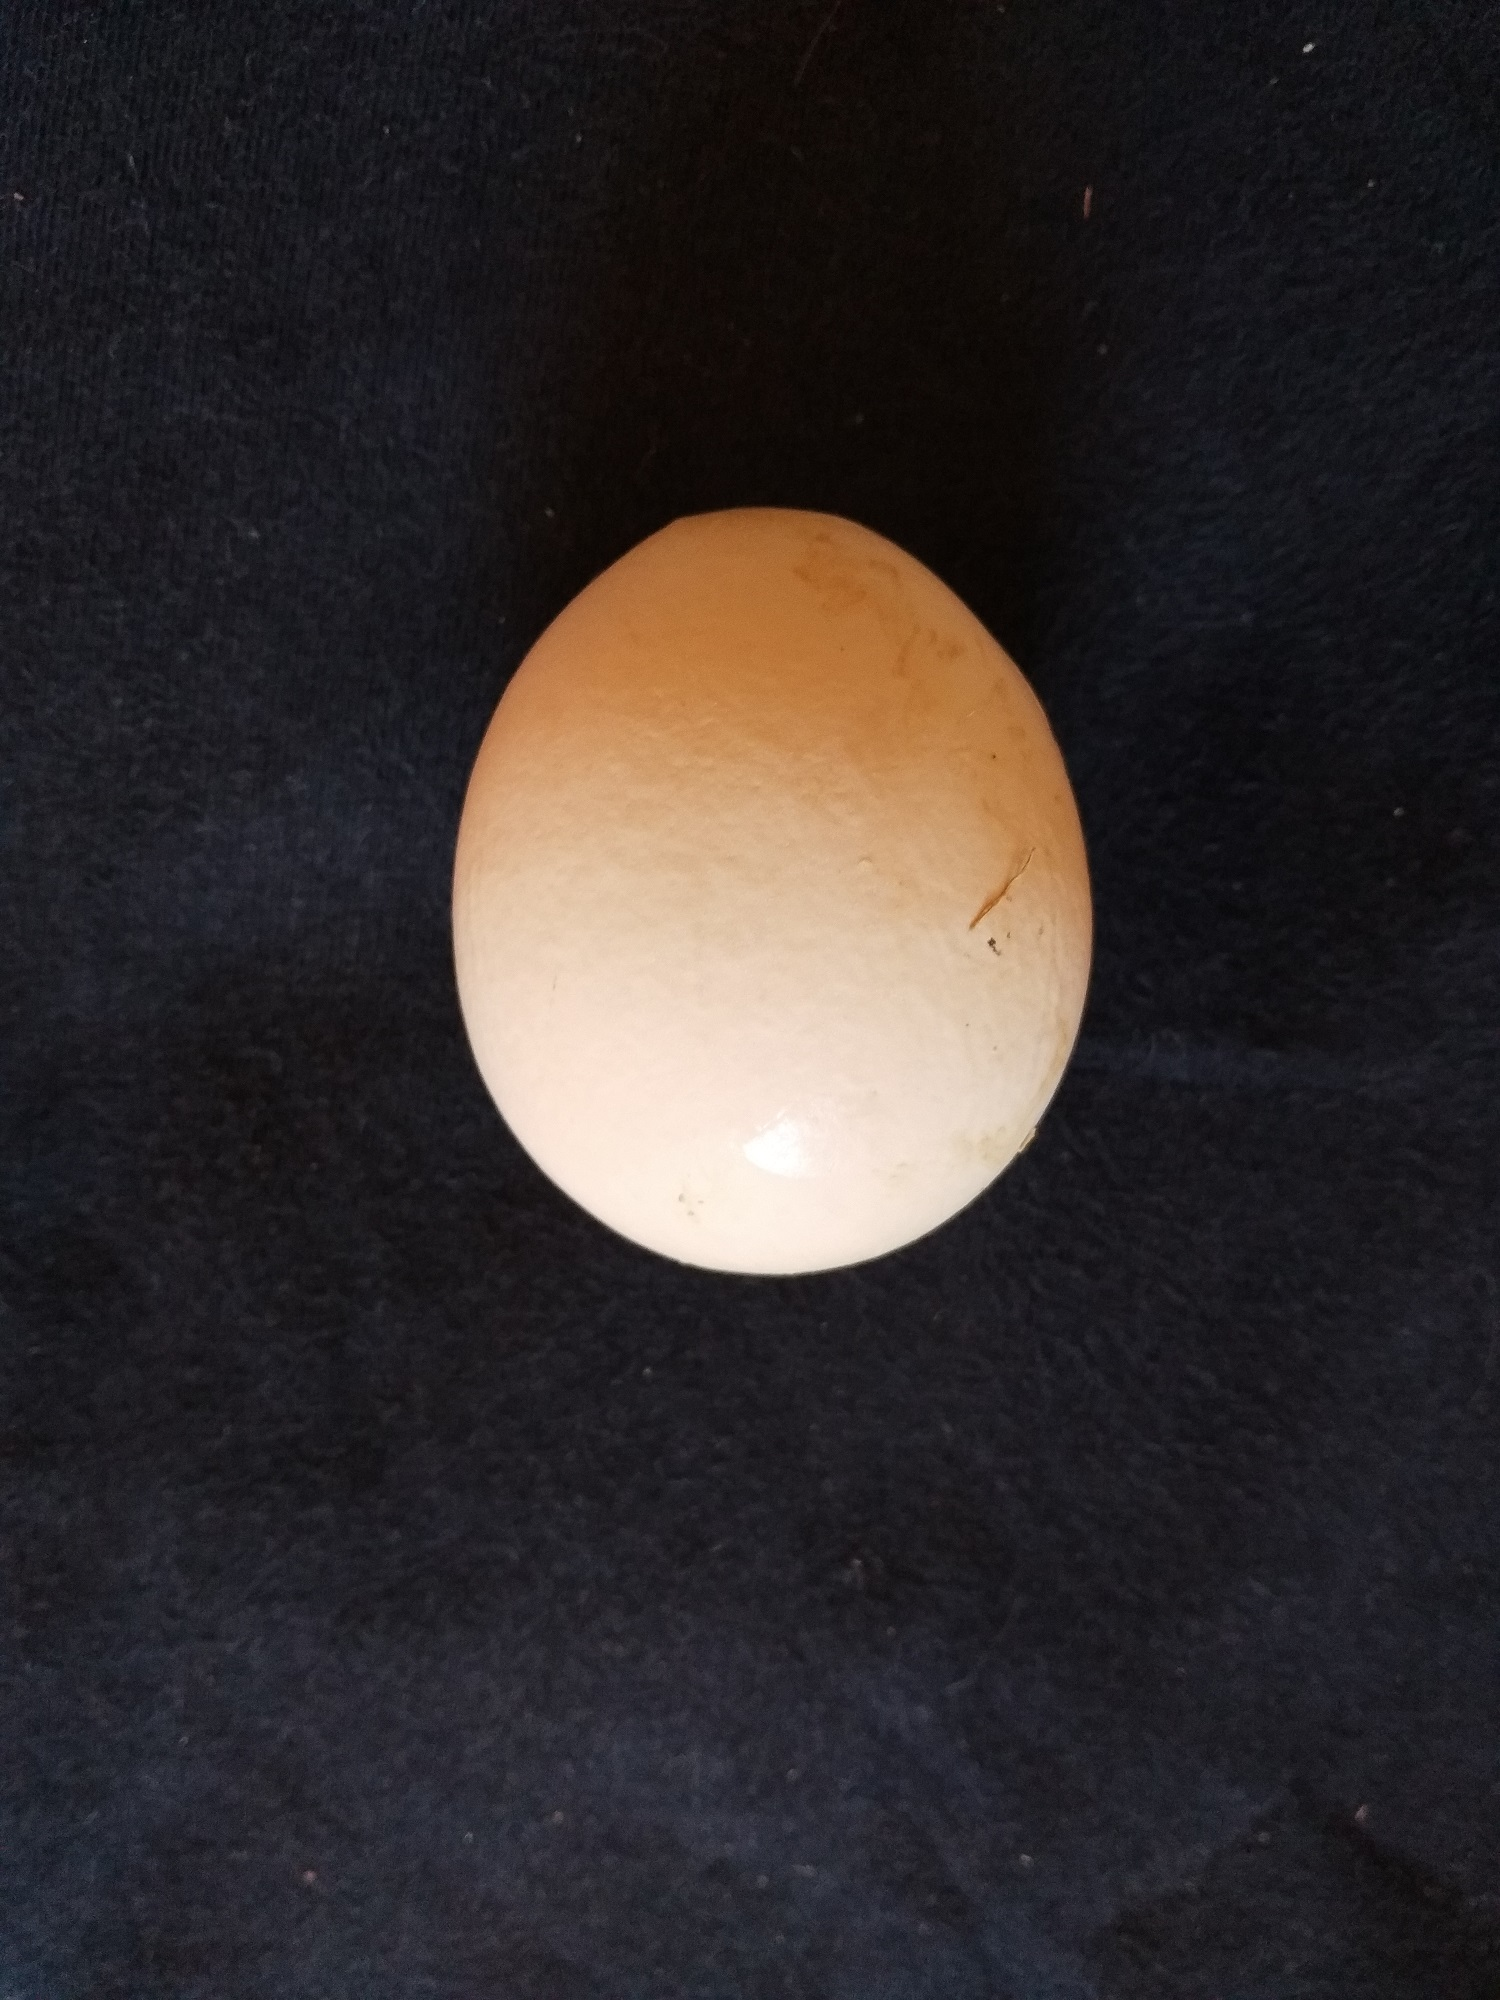Female: (436, 499, 1103, 1279)
